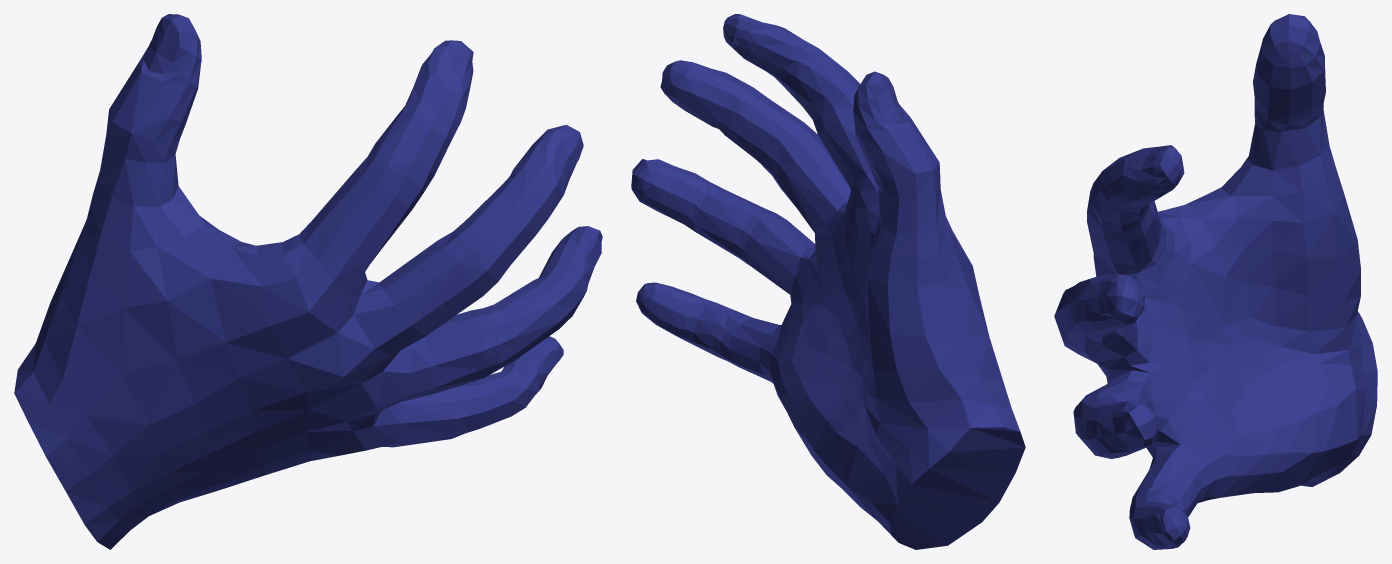
The picture shows the model from 3 angles, left to right: view 1: azimuth 30°, elevation 25°; view 2: azimuth 150°, elevation 25°; view 3: azimuth 270°, elevation 25°; orthographic projection. The views are drawn at different scales.
Bounding box in the file's own units: 0.1688 × 0.1645 × 0.0956.
